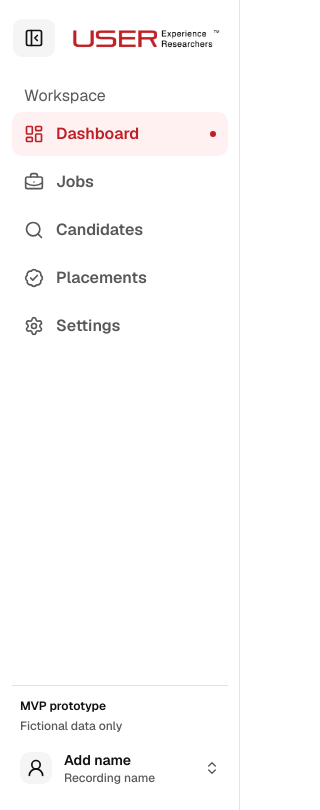
Test case: collapse retains accessible links and current page
This screenshot has width=320, height=810.
Click the button named "Collapse sidebar".
click(34, 38)  # box [12,18,56,58]
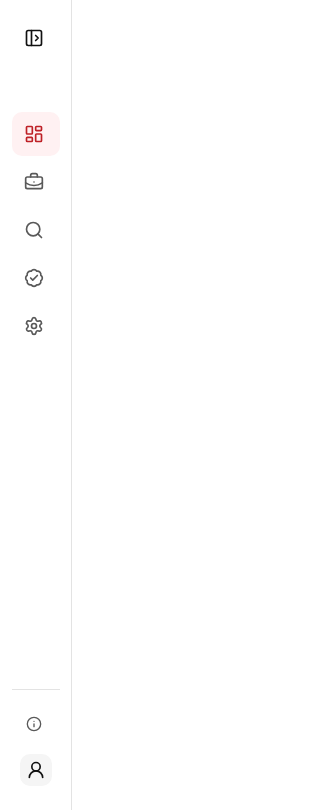
Click the button named "Expand sidebar".
click(34, 38)  # box [12,18,56,58]
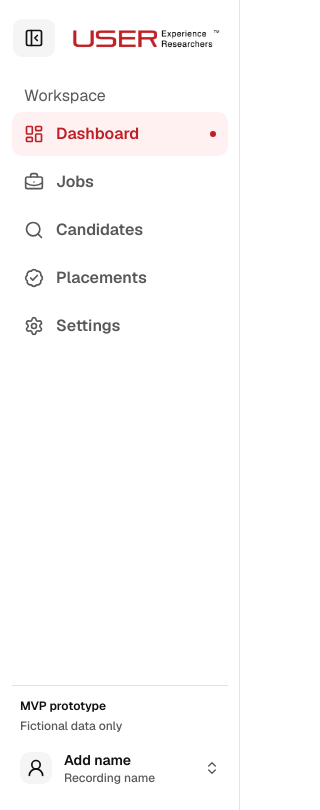
expect the link "Jobs" is shown: met, box [24,171,94,192]
